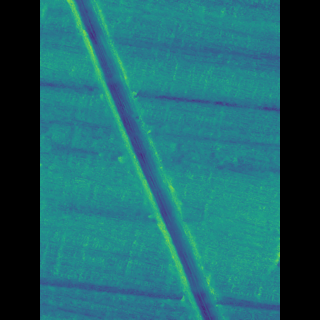Loch: (88, 0, 213, 320)
